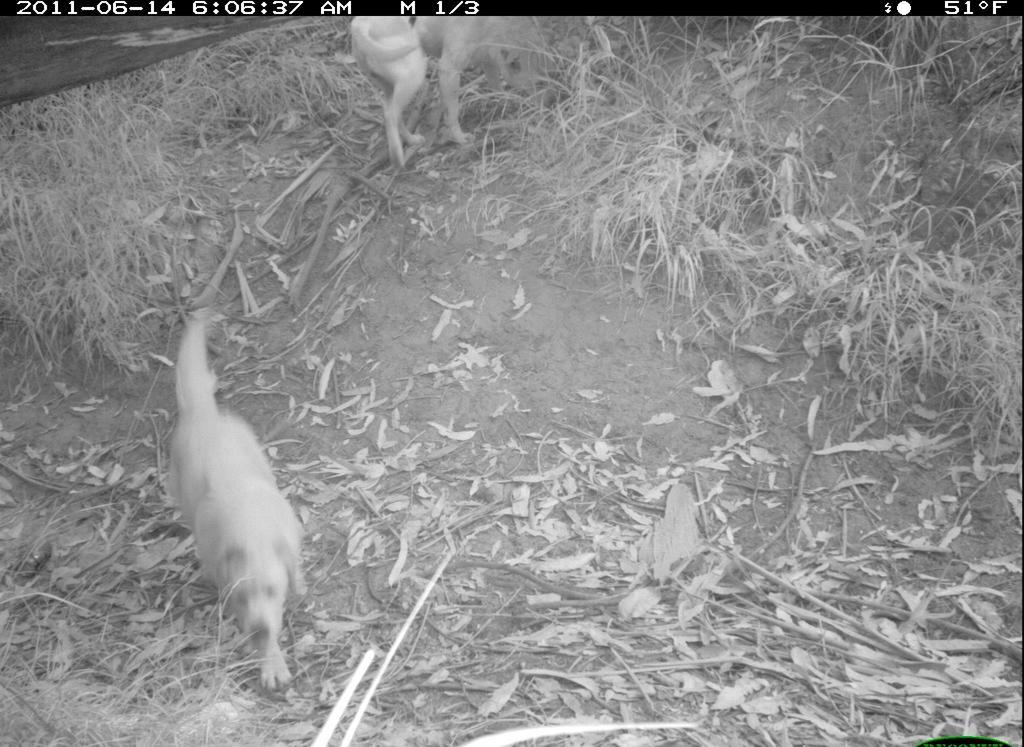dog: (149, 301, 336, 697), (341, 12, 516, 184)
